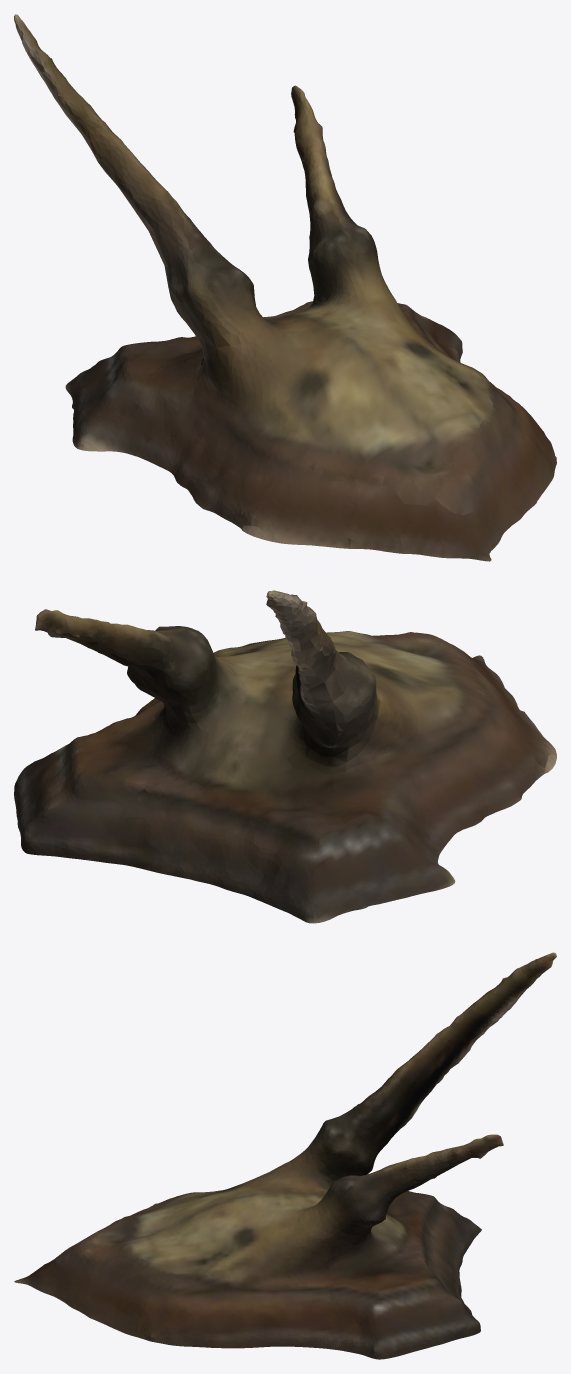
3 views of the same model, one above another, from view 1: azimuth 30°, elevation 25°; view 2: azimuth 150°, elevation 25°; view 3: azimuth 270°, elevation 25° (orthographic). The views are drawn at different scales.
Visible parts, largest first — view 1: mesh; view 2: mesh; view 3: mesh.
Part boxes in pixels (<box>): mesh: <box>14,14,556,561</box>; mesh: <box>14,590,556,923</box>; mesh: <box>14,952,556,1359</box>.
Bounding box in the file's own units: 0.1017 × 0.0838 × 0.151.
1 material, 1 textured.
